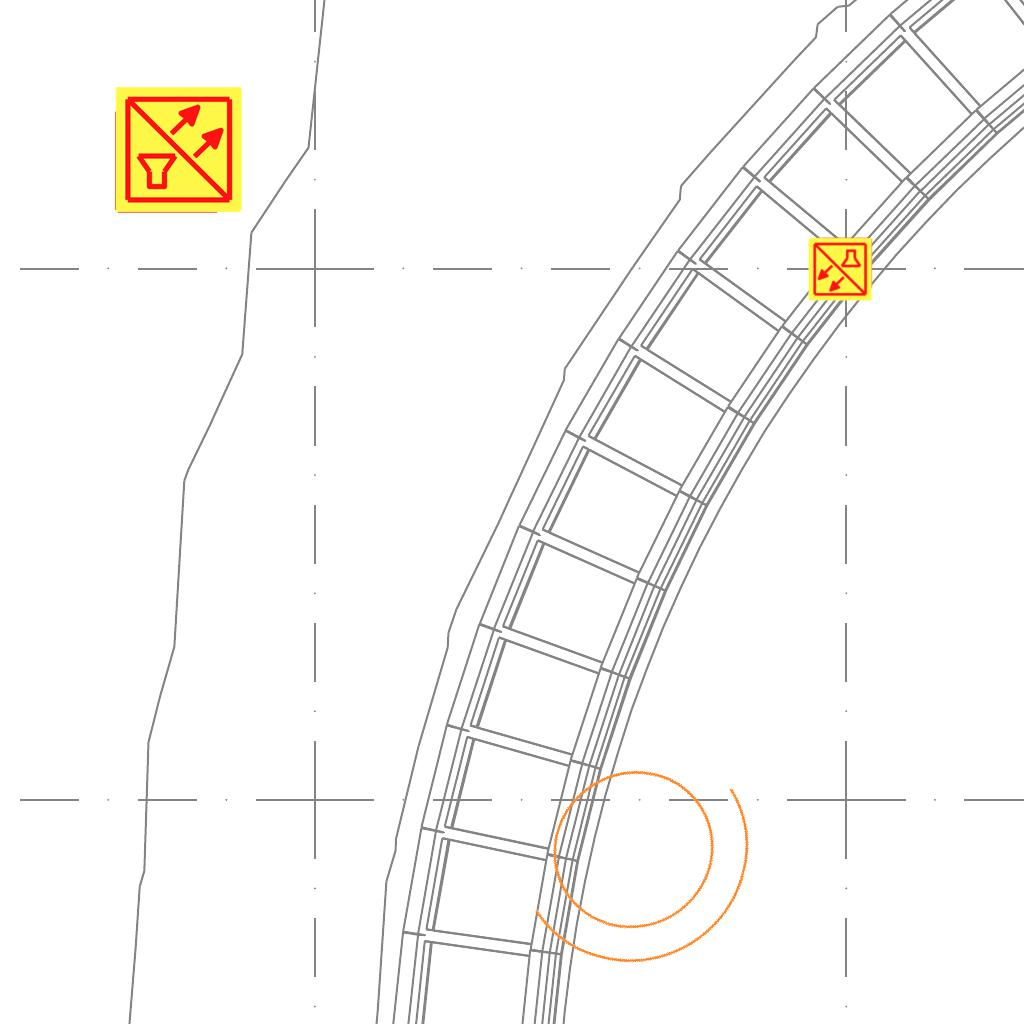OKW_Multisensormelder_(Kombination_optischer_Rauch-Kahlenmonoxid_Waerme-Melder): (113, 84, 245, 216), (807, 236, 873, 302)
Scheinwerfer_fuer_Alarmbeleuchtung: (472, 689, 816, 1020)
